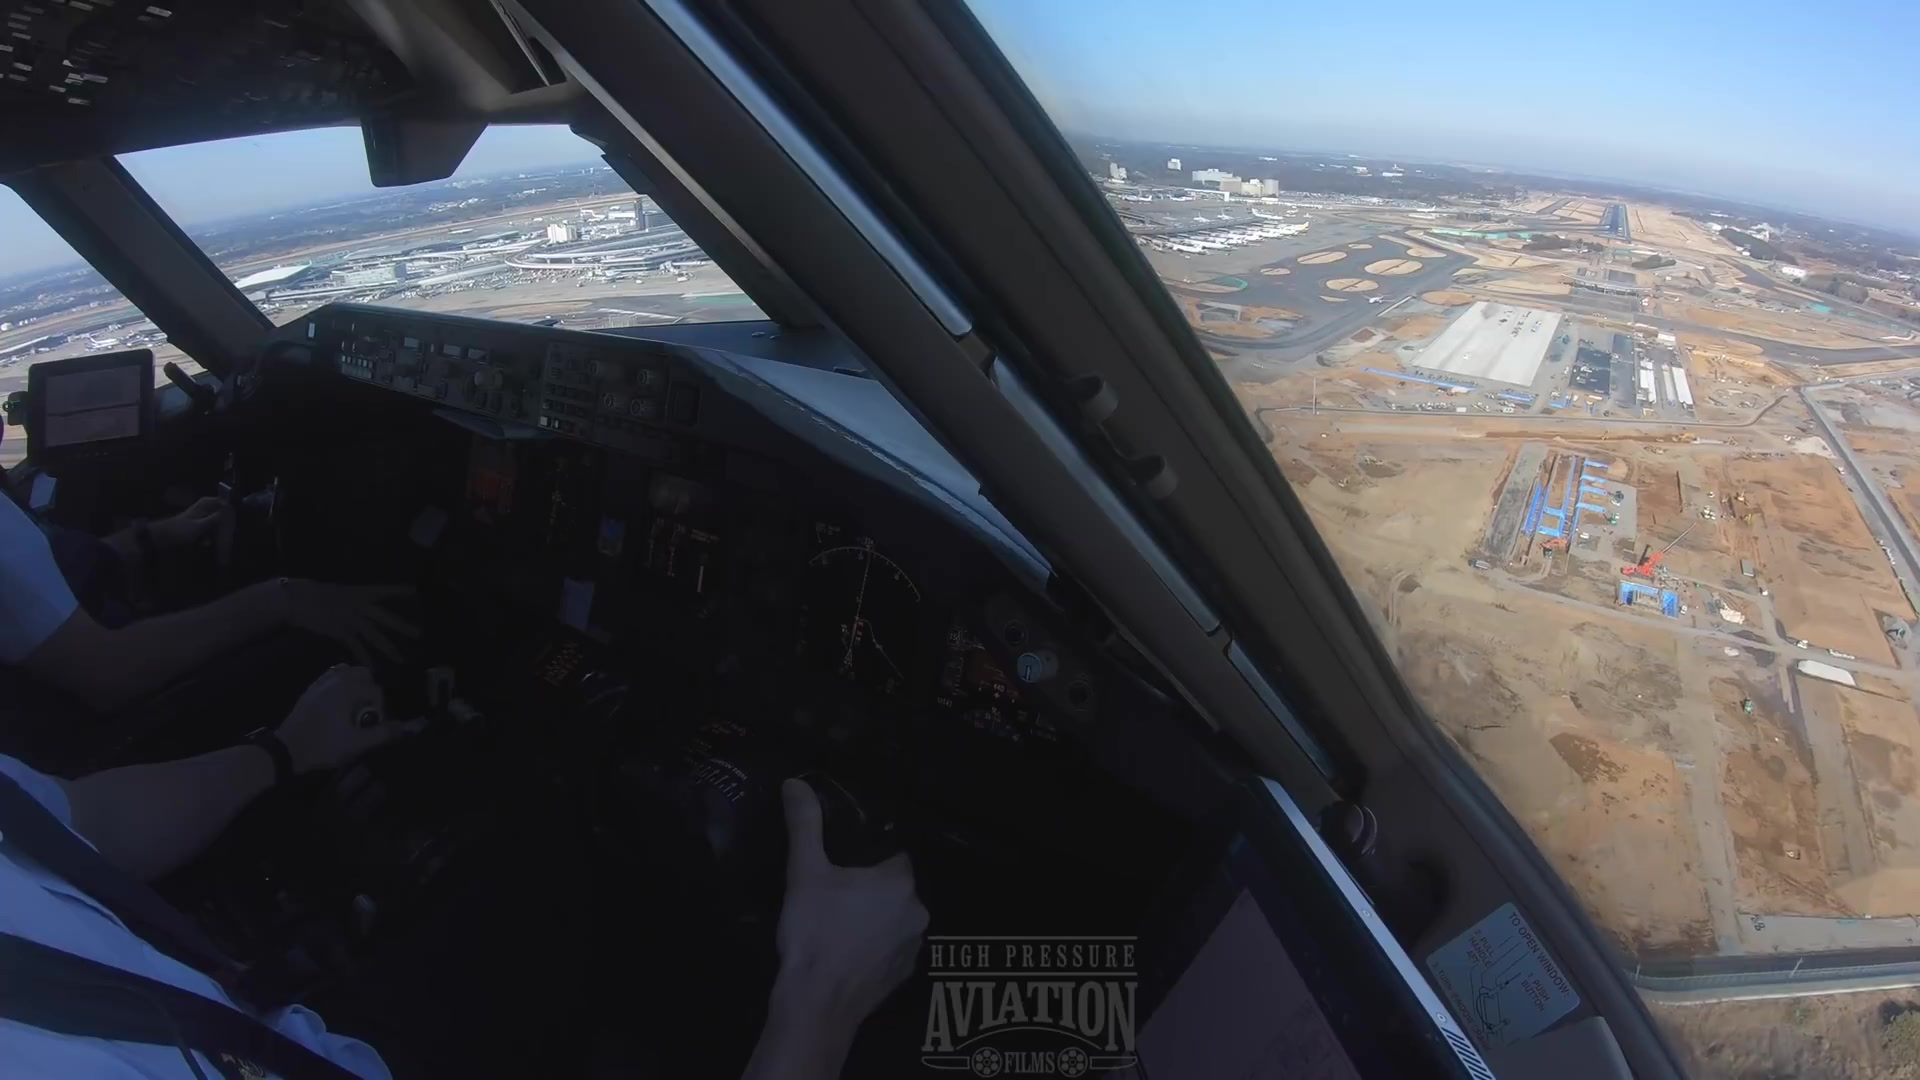runway: (1594, 202, 1630, 243)
